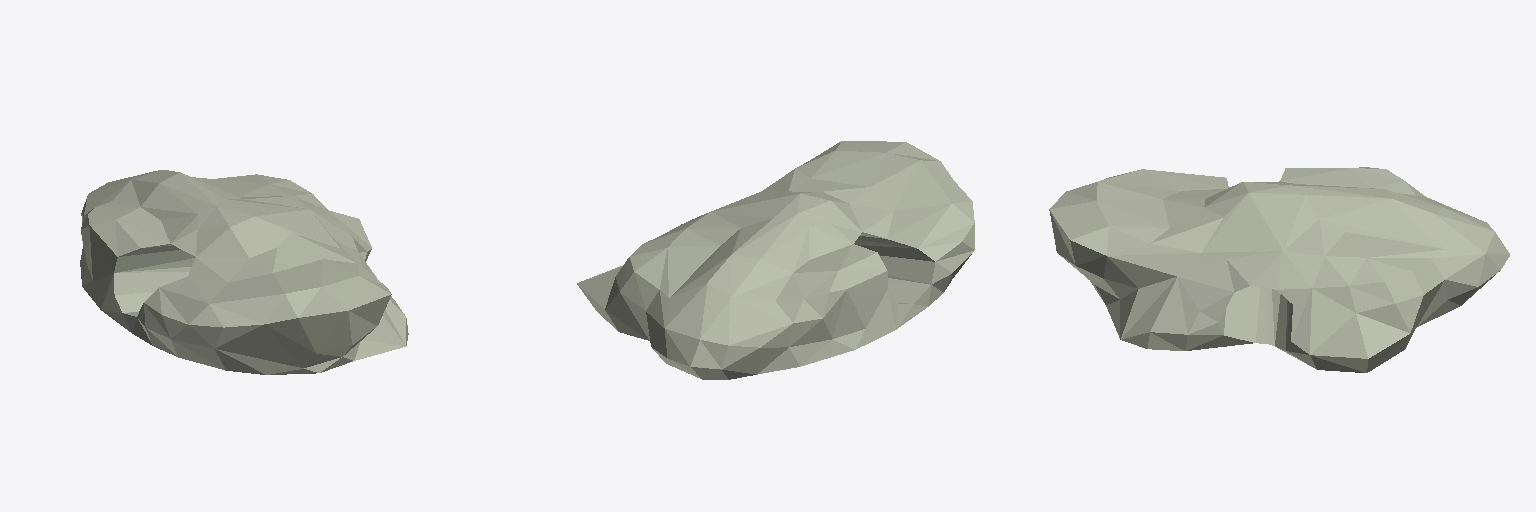
The model's file is tunnel.obj.
3 views of the same model, side by side, from view 1: azimuth 30°, elevation 25°; view 2: azimuth 150°, elevation 25°; view 3: azimuth 270°, elevation 25° (orthographic).
Visible parts, largest first — view 1: Tunnel.003; view 2: Tunnel.003; view 3: Tunnel.003.
Part boxes in pixels (x1,y1,x2,y2): Tunnel.003: (80, 170, 408, 374); Tunnel.003: (577, 141, 974, 379); Tunnel.003: (1049, 167, 1509, 372).
Size of the model in its own units: 98.69 by 35.31 by 134.